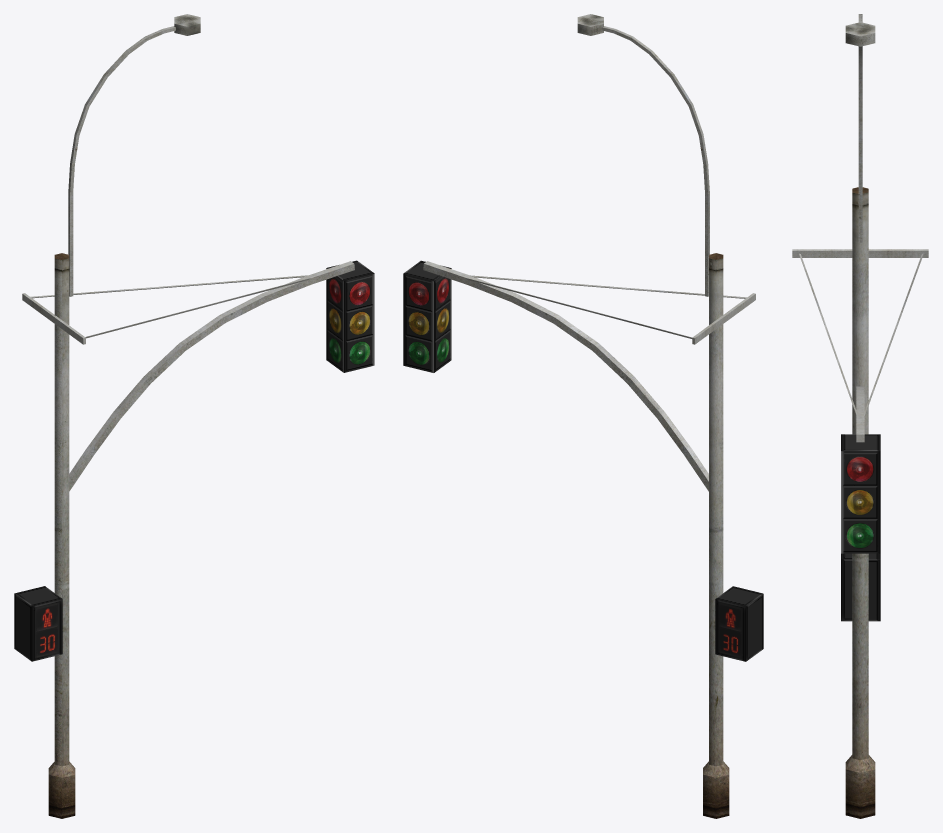
Rendered from TrafficLight.FBX.
3 renders of one model, left to right at view 1: azimuth 30°, elevation 25°; view 2: azimuth 150°, elevation 25°; view 3: azimuth 270°, elevation 25°, orthographic. The views are drawn at different scales.
Visible parts, largest first — view 1: objtraffic_Light; view 2: objtraffic_Light; view 3: objtraffic_Light.
Part boxes in pixels (x1,y1,x2,y2): objtraffic_Light: [14, 14, 374, 818]; objtraffic_Light: [403, 14, 763, 818]; objtraffic_Light: [792, 14, 928, 818].
Bounding box in the file's own units: 390 × 827 × 120.
1 material, 1 textured.
